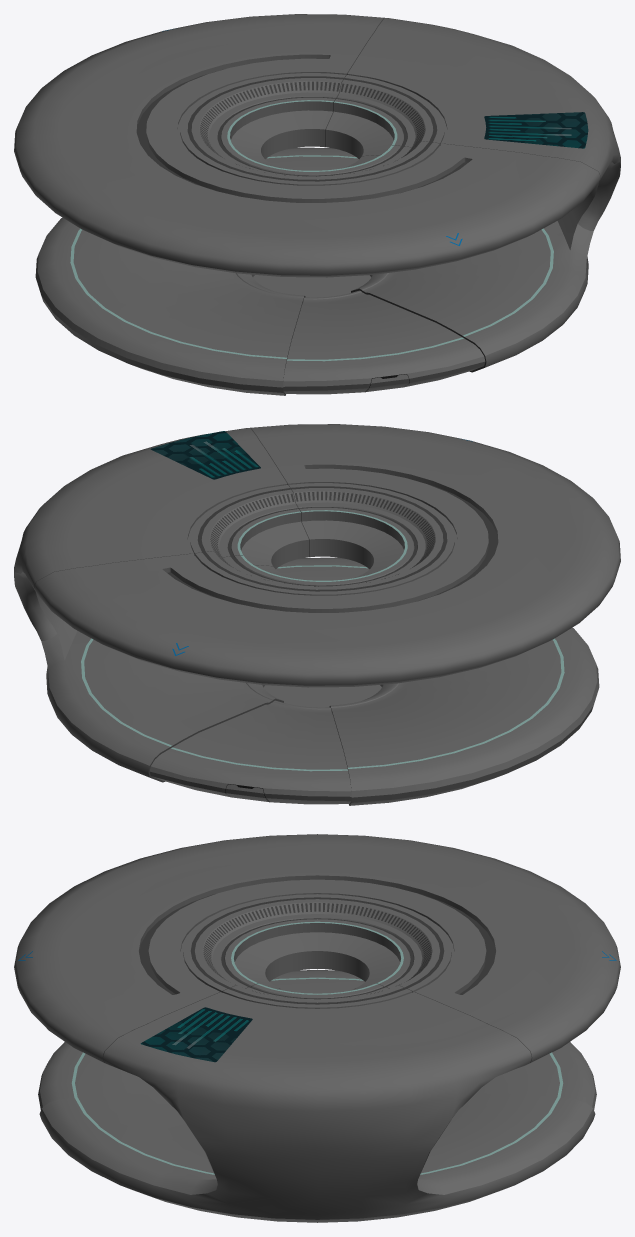
File: W_O_Info_003_L0.fbx
3 views of the same model, one above another, from view 1: azimuth 30°, elevation 25°; view 2: azimuth 150°, elevation 25°; view 3: azimuth 270°, elevation 25° (orthographic).
Parts seen in each view (by area): view 1: W_O_Info_003_L0, W_O_Info_003_Display_L0; view 2: W_O_Info_003_L0, W_O_Info_003_Display_L0; view 3: W_O_Info_003_L0, W_O_Info_003_Display_L0.
Boxes of the visible parts, x1=… form: W_O_Info_003_L0: x1=14, y1=14, x2=620, y2=395; W_O_Info_003_Display_L0: x1=484, y1=112, x2=588, y2=148; W_O_Info_003_L0: x1=14, y1=424, x2=620, y2=805; W_O_Info_003_Display_L0: x1=150, y1=431, x2=260, y2=479; W_O_Info_003_L0: x1=14, y1=834, x2=620, y2=1222; W_O_Info_003_Display_L0: x1=140, y1=1007, x2=252, y2=1062.
Bounding box in the file's own units: 2.96 × 0.8959 × 2.9.
